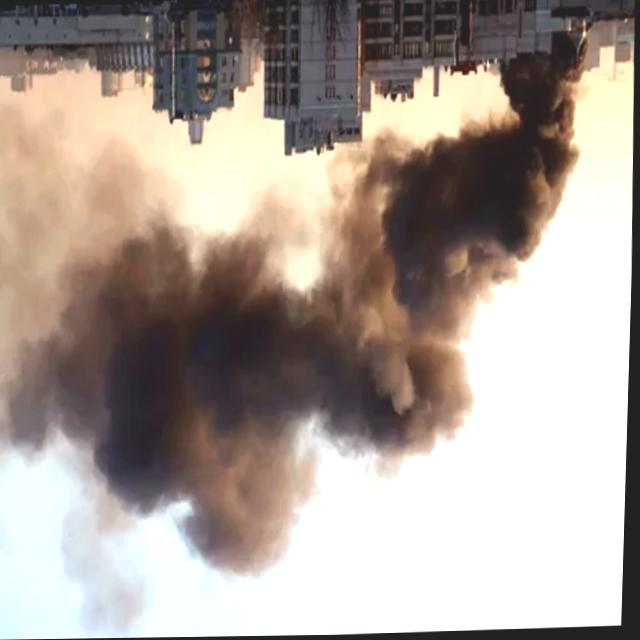no_helmet: (85, 70, 590, 583)
